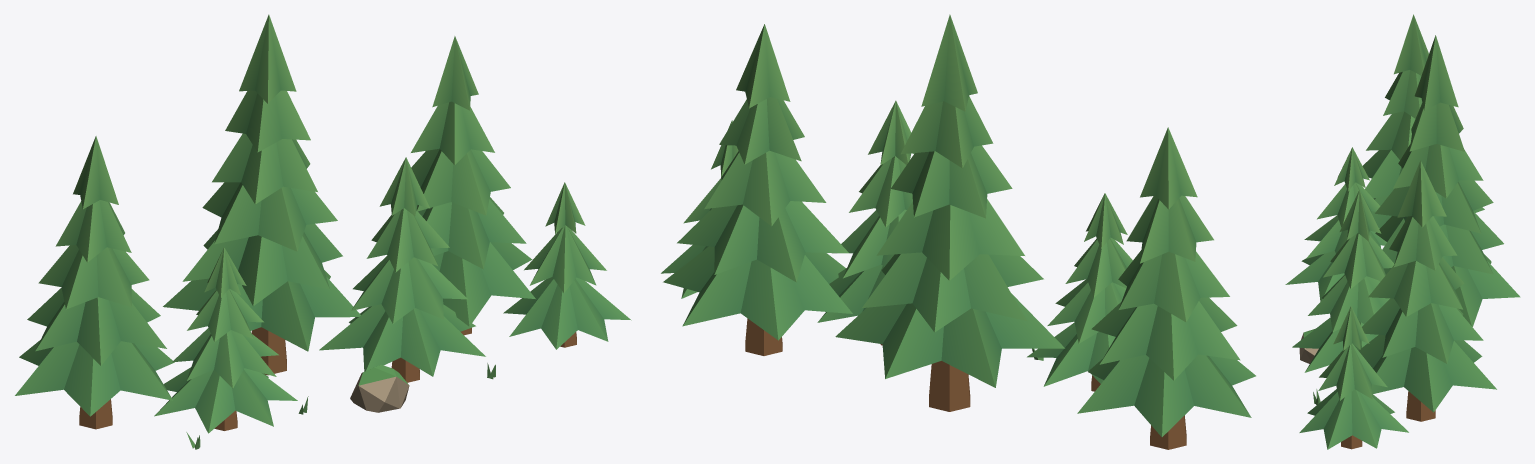
File: ranch_border_grove_pine.fbx
3 renders of one model, left to right at view 1: azimuth 30°, elevation 25°; view 2: azimuth 150°, elevation 25°; view 3: azimuth 270°, elevation 25°, orthographic. The views are drawn at different scales.
Visible parts, largest first — view 1: ranch_border_grove_pine; view 2: ranch_border_grove_pine; view 3: ranch_border_grove_pine.
Boxes of the visible parts, bbox=[...] form: ranch_border_grove_pine: bbox=[15, 14, 631, 449]; ranch_border_grove_pine: bbox=[661, 14, 1255, 449]; ranch_border_grove_pine: bbox=[1285, 14, 1520, 449].
Bounding box in the file's own units: 36.5 × 21.78 × 15.24.
